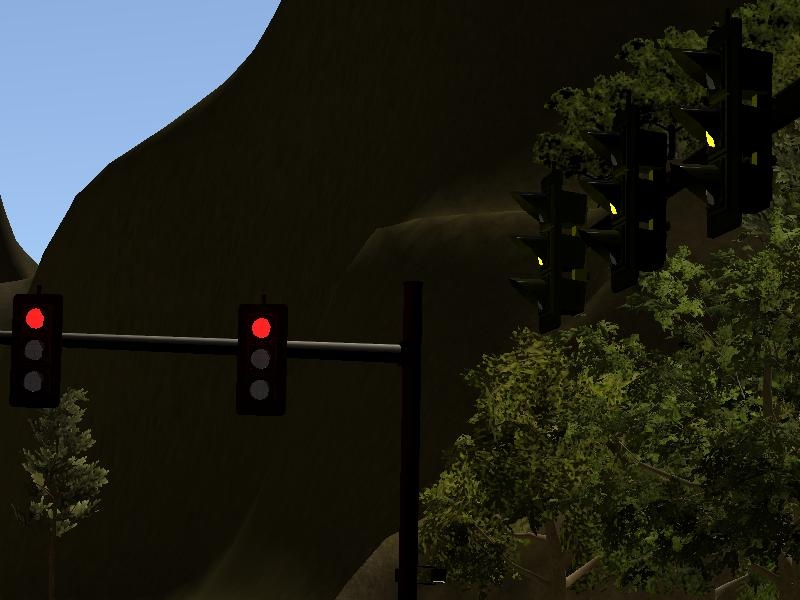RED: (239, 305, 286, 416), (11, 293, 58, 404)
